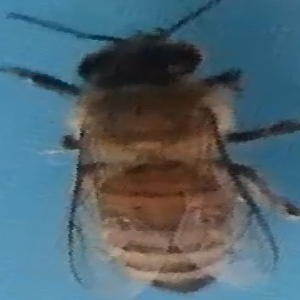bee: (7, 10, 293, 300)
